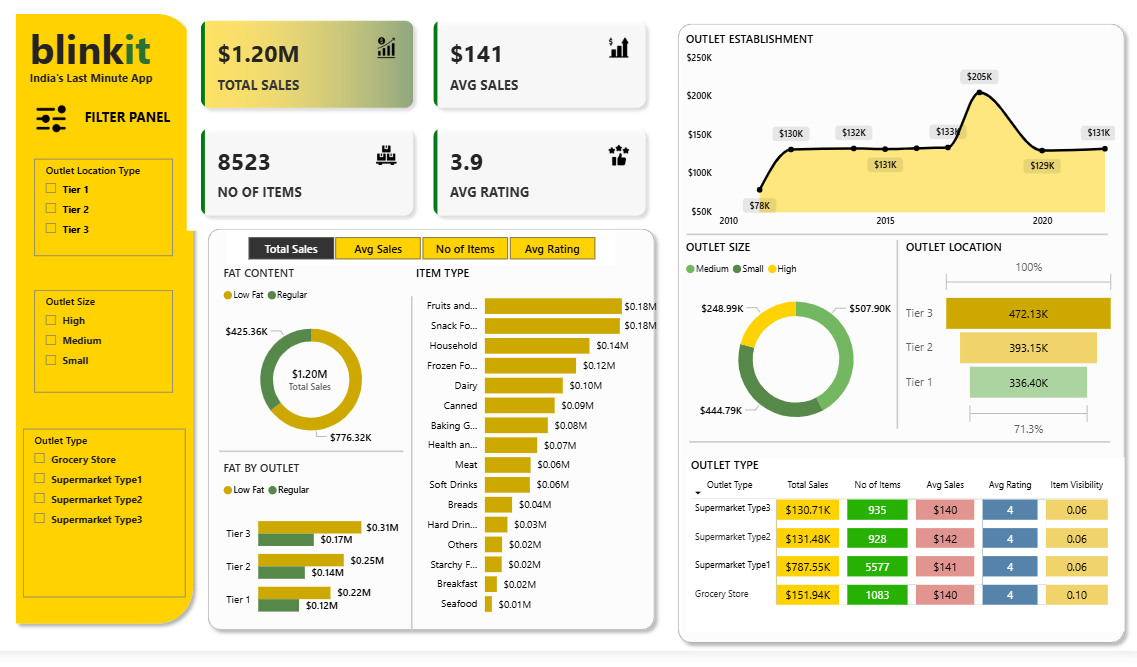

This screenshot's page, from the dashboard's own definition file:
{"tool":"powerbi","page":{"name":"Page 1","canvas":[1400,800],"ordinal":0},"visuals":[{"type":"shape","box":[36,25.5,231.1,750.4],"z":0},{"type":"textbox","box":[57,37.5,159.1,76.5],"z":1000},{"type":"textbox","box":[57,97.6,159.1,31.5],"z":2000},{"type":"cardVisual","fields":{"Data":["BlinkIT Grocery Data.Total Sales","BlinkIT Grocery Data.Avg Sales","BlinkIT Grocery Data.No of Items","BlinkIT Grocery Data.Avg Rating"]},"box":[251.3,25.7,569.2,269.5],"z":3000},{"type":"shape","box":[266.4,283.1,554.1,499.6],"z":4000},{"type":"donutChart","title":"FAT CONTENT","fields":{"Y":["BlinkIT Grocery Data.Total Sales"],"Category":["BlinkIT Grocery Data.Item Fat Content"]},"box":[289.1,336.1,221,230.1],"z":5000},{"type":"slicer","fields":{"Values":["Metrics .Metrics "]},"box":[298.2,295.2,466.3,40.9],"z":6000},{"type":"cardVisual","fields":{"Data":["BlinkIT Grocery Data.Total Sales"]},"box":[346.7,438.3,103.6,69],"z":7000},{"type":"clusteredBarChart","title":"FAT BY OUTLET","fields":{"Y":["BlinkIT Grocery Data.Total Sales"],"Category":["BlinkIT Grocery Data.Outlet Location Type"],"Series":["BlinkIT Grocery Data.Item Fat Content"]},"box":[289.7,570.3,220.6,204.1],"z":8000},{"type":"shape","box":[289.1,554.1,221,12.1],"z":9000},{"type":"shape","box":[510.3,373.7,21,402.2],"z":10000},{"type":"barChart","title":"ITEM TYPE","fields":{"Y":["BlinkIT Grocery Data.Total Sales"],"Category":["BlinkIT Grocery Data.Item Type"]},"box":[520.8,336.1,299.7,431.4],"z":11000},{"type":"shape","box":[831.1,37.8,554.1,761.5],"z":12000},{"type":"lineChart","title":"OUTLET ESTABLISHMENT","fields":{"Category":["BlinkIT Grocery Data.Outlet Establishment Year"],"Y":["BlinkIT Grocery Data.Total Sales"]},"box":[845,55.5,525.3,244.6],"z":13000},{"type":"shape","box":[851,295.7,505.8,7.5],"z":14000},{"type":"donutChart","title":"OUTLET SIZE","fields":{"Y":["BlinkIT Grocery Data.Total Sales"],"Category":["BlinkIT Grocery Data.Outlet Size"]},"box":[845,304.7,274.7,244.6],"z":15000},{"type":"shape","box":[1098.6,306.2,10.5,226.6],"z":16000},{"type":"funnel","title":"OUTLET LOCATION","fields":{"Y":["Sum(BlinkIT Grocery Data.Sales)"],"Category":["BlinkIT Grocery Data.Outlet Location Type"]},"box":[1109.1,304.7,261.2,244.6],"z":17000},{"type":"shape","box":[854,544.8,505.8,7.5],"z":18000},{"type":"pivotTable","title":"OUTLET TYPE","fields":{"Rows":["BlinkIT Grocery Data.Outlet Type"],"Values":["BlinkIT Grocery Data.Total Sales","BlinkIT Grocery Data.No of Items","BlinkIT Grocery Data.Avg Sales","BlinkIT Grocery Data.Avg Rating","Avg(BlinkIT Grocery Data.Item Visibility)"]},"box":[851,567.3,525.3,208.6],"z":19000},{"type":"slicer","fields":{"Values":["BlinkIT Grocery Data.Outlet Location Type"]},"box":[67.5,208.6,166.6,117.1],"z":20000},{"type":"slicer","fields":{"Values":["BlinkIT Grocery Data.Outlet Size"]},"box":[67.5,366.2,166.6,123.1],"z":21000},{"type":"slicer","fields":{"Values":["BlinkIT Grocery Data.Outlet Type"]},"box":[54,532.8,195.1,202.6],"z":22000},{"type":"textbox","box":[123.1,142.6,127.6,42],"z":23000},{"type":"image","box":[52.5,136.6,70.5,48],"z":24000}]}

Visuals, with their boxes in screenshot pixels (x1, y1, x2, y2), scaled from the page's 1400x800 canvas onto the 1137x667 screenshot:
shape: detection(29, 21, 217, 647)
textbox: detection(46, 31, 176, 95)
textbox: detection(46, 81, 176, 108)
cardVisual - BlinkIT Grocery Data.Total Sales x BlinkIT Grocery Data.Avg Sales: detection(204, 21, 666, 246)
shape: detection(216, 236, 666, 653)
"FAT CONTENT" donutChart: detection(235, 280, 414, 472)
slicer - Metrics .Metrics : detection(242, 246, 621, 280)
cardVisual - BlinkIT Grocery Data.Total Sales: detection(282, 365, 366, 423)
"FAT BY OUTLET" clusteredBarChart: detection(235, 475, 414, 646)
shape: detection(235, 462, 414, 472)
shape: detection(414, 312, 431, 647)
"ITEM TYPE" barChart: detection(423, 280, 666, 640)
shape: detection(675, 32, 1125, 666)
"OUTLET ESTABLISHMENT" lineChart: detection(686, 46, 1113, 250)
shape: detection(691, 247, 1102, 253)
"OUTLET SIZE" donutChart: detection(686, 254, 909, 458)
shape: detection(892, 255, 901, 444)
"OUTLET LOCATION" funnel: detection(901, 254, 1113, 458)
shape: detection(694, 454, 1104, 460)
"OUTLET TYPE" pivotTable: detection(691, 473, 1118, 647)
slicer - BlinkIT Grocery Data.Outlet Location Type: detection(55, 174, 190, 272)
slicer - BlinkIT Grocery Data.Outlet Size: detection(55, 305, 190, 408)
slicer - BlinkIT Grocery Data.Outlet Type: detection(44, 444, 202, 613)
textbox: detection(100, 119, 204, 154)
image: detection(43, 114, 100, 154)
